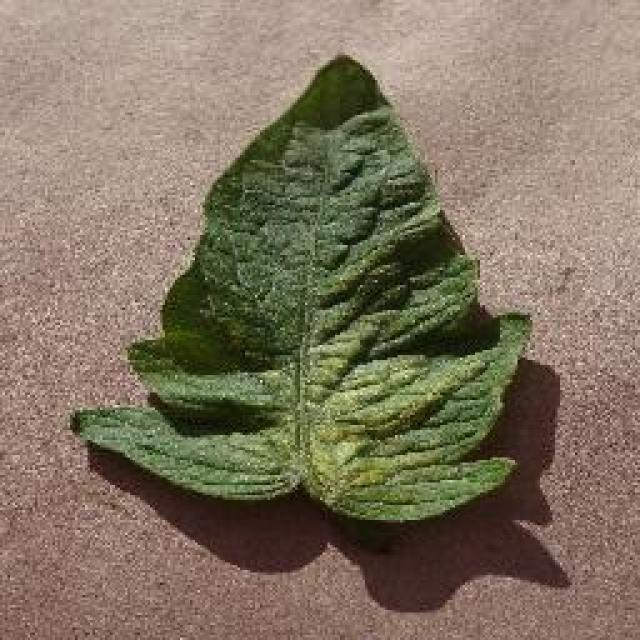Tom_Spider_mites Two-spotted_spider_mite: (230, 289, 440, 496)
